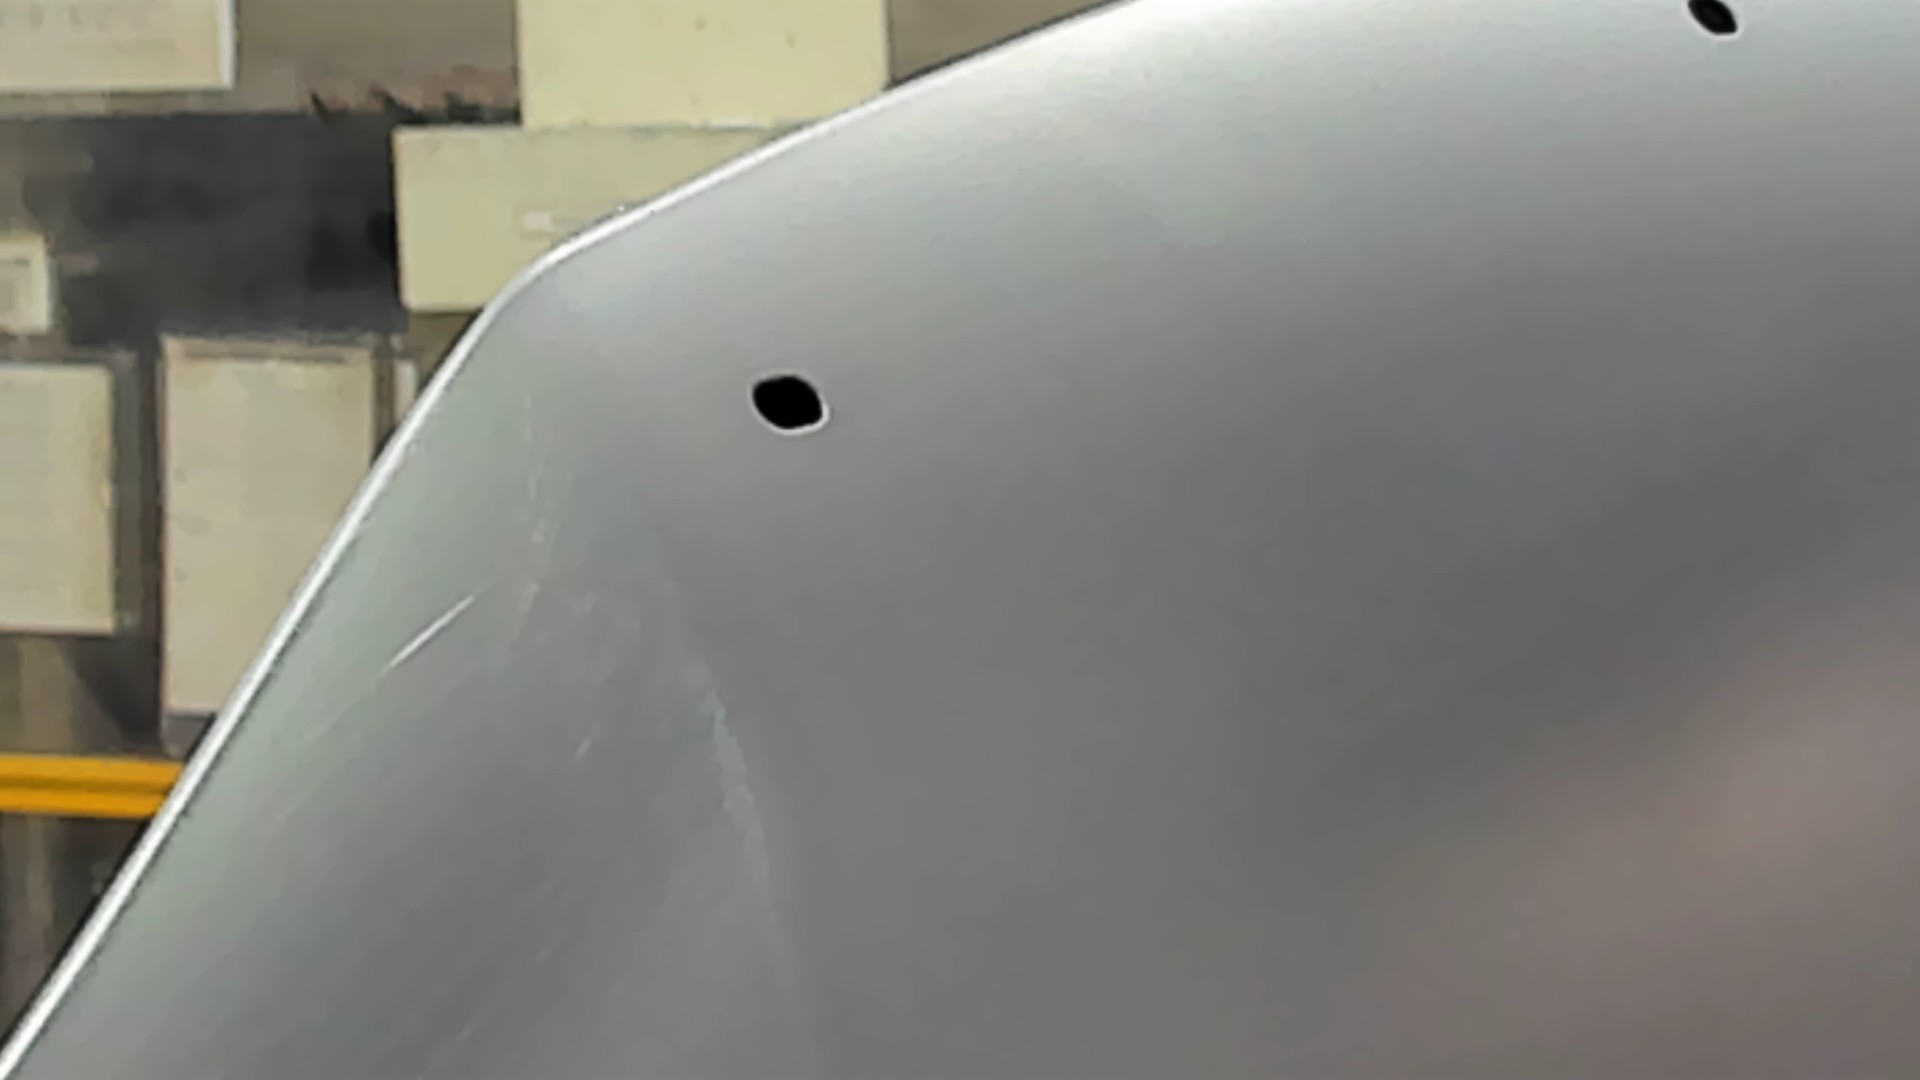amorfo: (742, 369, 833, 436), (1687, 1, 1742, 47)
